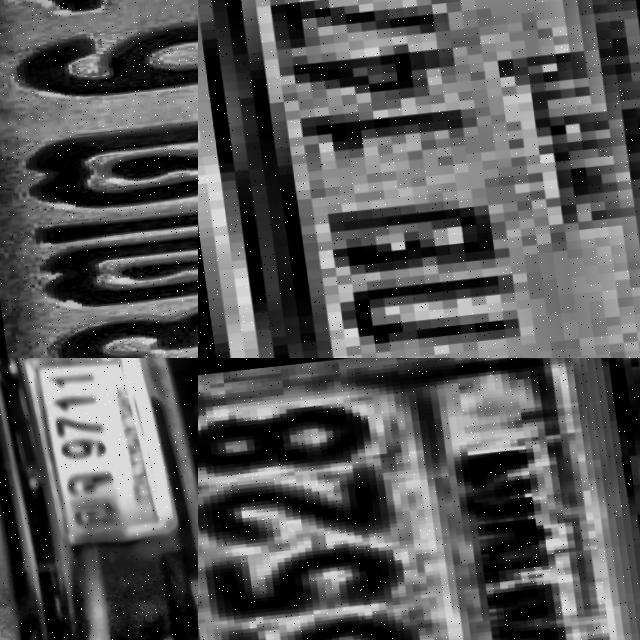license-plate: (198, 0, 640, 358), (198, 358, 640, 640), (0, 0, 198, 358), (9, 358, 186, 553)
